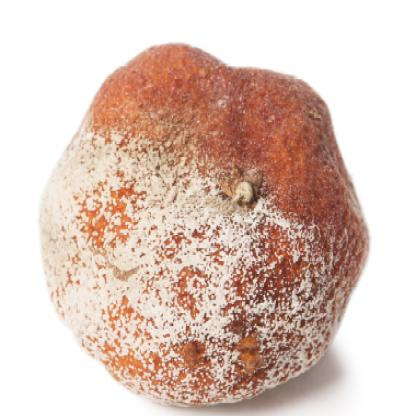rotten: (41, 44, 370, 406)
